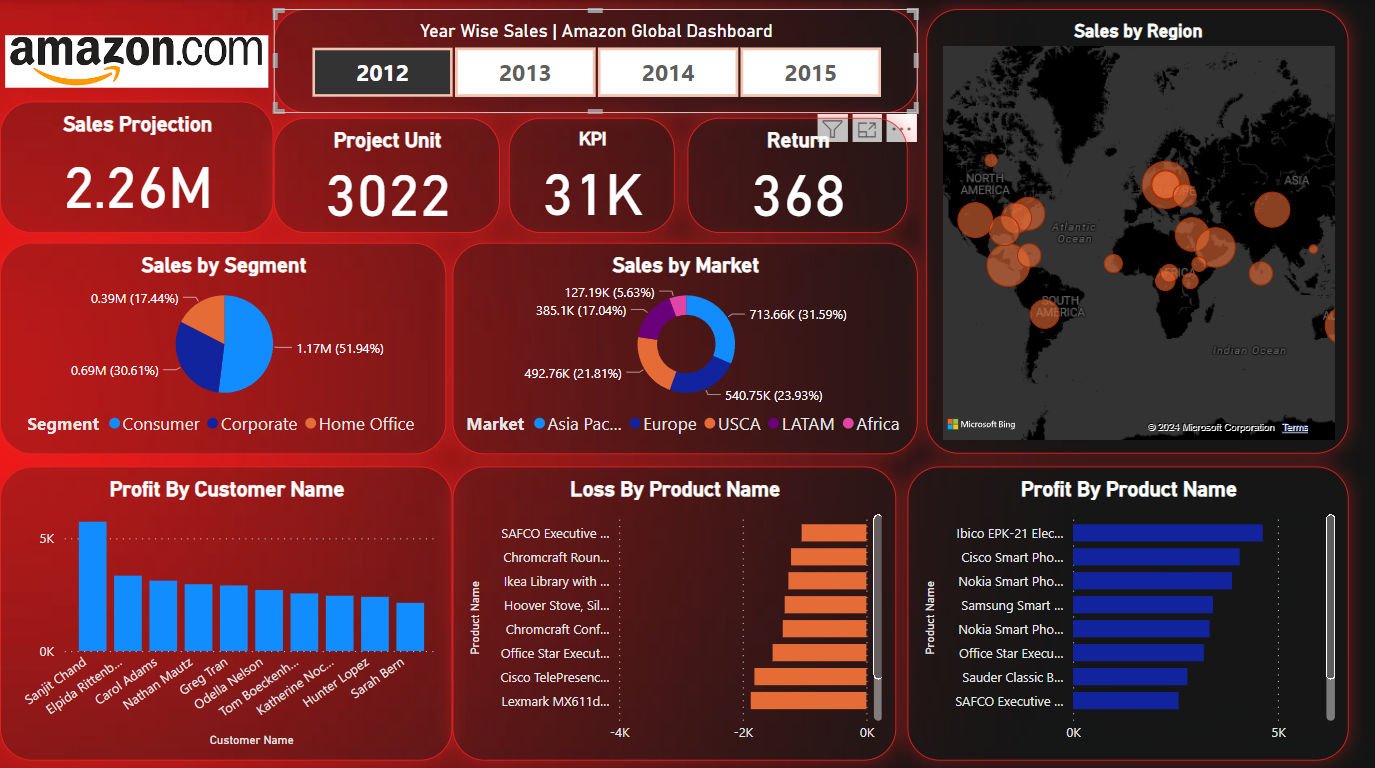

The dashboard page shown, as its layout file describes it:
{"tool":"powerbi","page":{"name":"Report1","canvas":[1280,720],"ordinal":0},"visuals":[{"type":"slicer","title":"Year Wise Sales | Amazon Global Dashboard","fields":{"Values":["Orders.Year"]},"box":[254.7,9.3,598.8,96.5],"z":0},{"type":"card","title":"Sales Projection","fields":{"Values":["Orders.Sales"]},"box":[0,95.3,254.7,122.1],"z":1},{"type":"image","box":[0,20.9,254.7,74.4],"z":2},{"type":"card","title":"Project Unit","fields":{"Values":["Orders.Product Name"]},"box":[254.7,110.5,210.5,107],"z":3},{"type":"card","title":"KPI","fields":{"Values":["Orders.Quantity"]},"box":[473.3,110.5,154.7,107],"z":4},{"type":"card","title":"Return","fields":{"Values":["Orders.Ship Date"]},"box":[639.5,110.5,204.7,107],"z":5},{"type":"pieChart","title":"Sales by Segment","fields":{"Y":["Orders.Sales"],"Category":["Orders.Segment"]},"box":[0,226.7,415.1,196.5],"z":7},{"type":"donutChart","title":"Sales by Market","fields":{"Y":["Orders.Sales"],"Category":["Orders.Market"]},"box":[420.9,226.7,432.6,196.5],"z":8},{"type":"columnChart","title":"Profit By Customer Name","fields":{"Category":["Orders.Customer Name"],"Y":["Orders.Profit"]},"box":[0,434.9,420.9,273.3],"z":9},{"type":"barChart","title":"Loss By Product Name","fields":{"Category":["Orders.Product Name"],"Y":["Orders.Profit"]},"box":[420.9,434.9,412.8,273.3],"z":10},{"type":"clusteredBarChart","title":"Profit By Product Name","fields":{"Category":["Orders.Product Name"],"Y":["Orders.Profit"]},"box":[844.2,434.9,410.5,273.3],"z":11},{"type":"map","title":"Sales by Region","fields":{"Category":["Orders.Region"],"Size":["Orders.Sales"]},"box":[861.6,9.3,393,414],"z":12}]}

Visuals, with their boxes in screenshot pixels (x1, y1, x2, y2), scaled from the page's 1280x720 canvas onto the 1375x768 screenshot:
"Year Wise Sales | Amazon Global Dashboard" slicer: (274, 10, 917, 113)
"Sales Projection" card: (0, 102, 274, 232)
image: (0, 22, 274, 102)
"Project Unit" card: (274, 118, 500, 232)
"KPI" card: (508, 118, 675, 232)
"Return" card: (687, 118, 907, 232)
"Sales by Segment" pieChart: (0, 242, 446, 451)
"Sales by Market" donutChart: (452, 242, 917, 451)
"Profit By Customer Name" columnChart: (0, 464, 452, 755)
"Loss By Product Name" barChart: (452, 464, 896, 755)
"Profit By Product Name" clusteredBarChart: (907, 464, 1348, 755)
"Sales by Region" map: (926, 10, 1348, 452)
